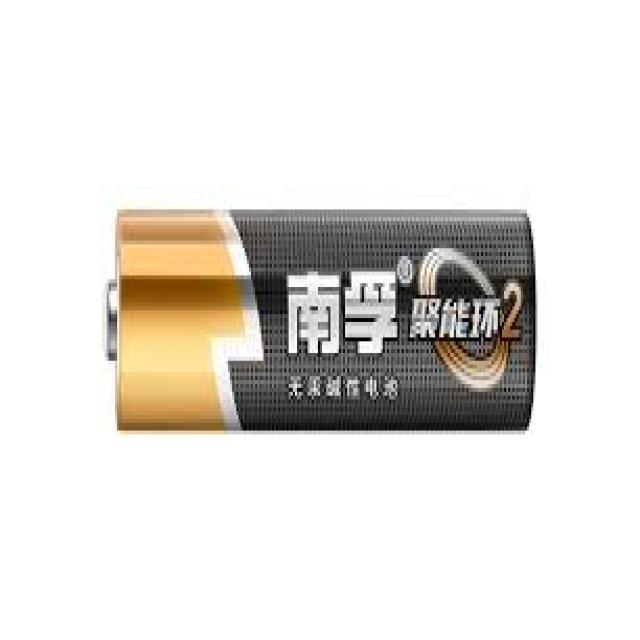Battery: (84, 160, 548, 502)
